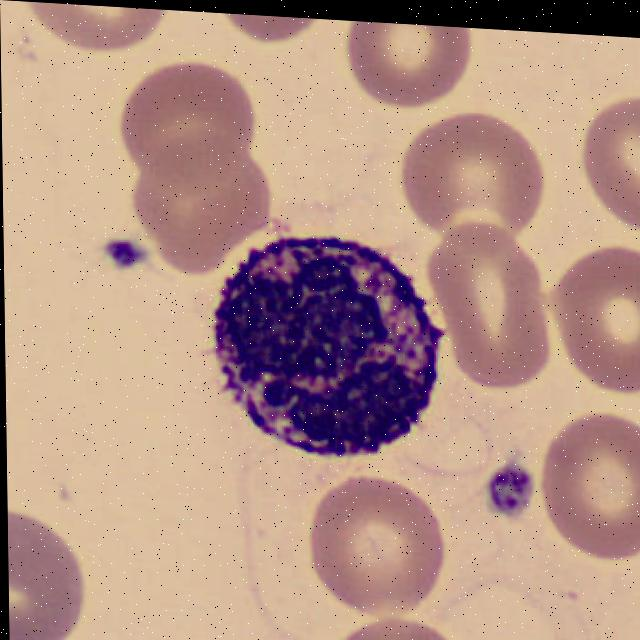basophil: (213, 233, 459, 470)
platelets: (487, 453, 542, 524), (103, 231, 150, 274), (556, 628, 632, 640)
rbc: (312, 467, 456, 616), (398, 109, 555, 243), (437, 220, 551, 384), (131, 129, 270, 257), (116, 48, 268, 162), (550, 227, 640, 394), (544, 415, 640, 564), (7, 493, 92, 640), (349, 21, 477, 102), (575, 75, 640, 227), (25, 1, 173, 46), (310, 598, 468, 640), (220, 13, 320, 48)
